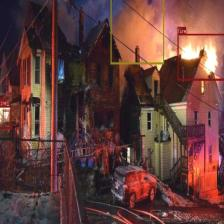fire: (177, 33, 224, 80), (0, 105, 12, 128)
smoke: (111, 0, 164, 64)
